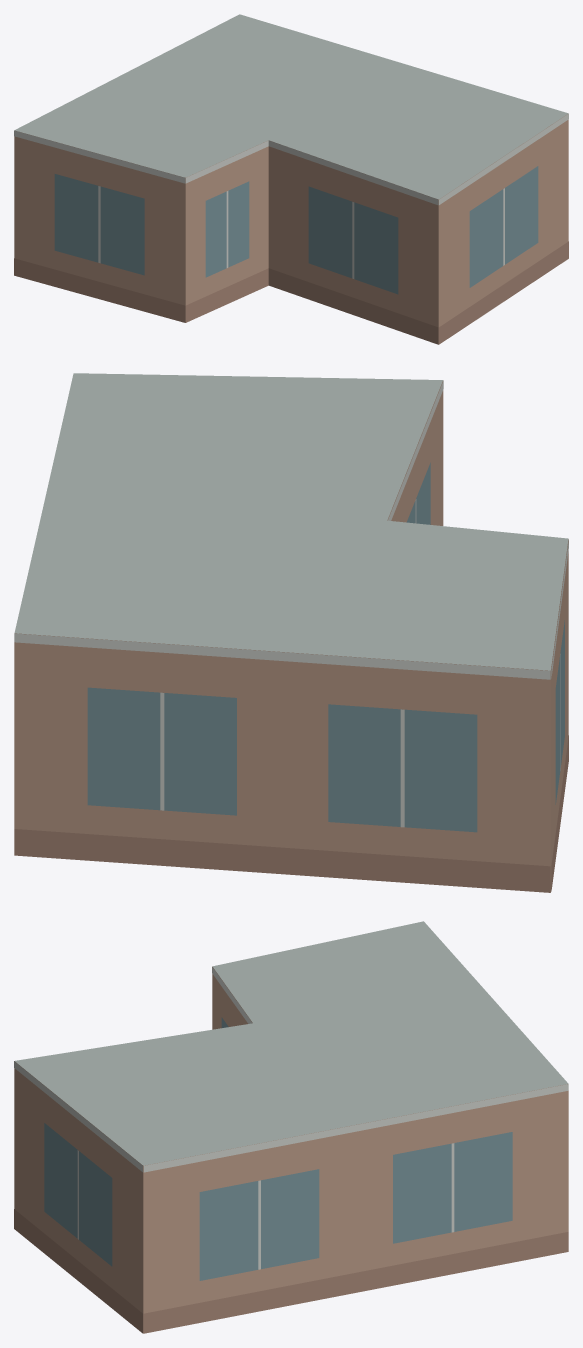
Rendered from survey-upis-32634900.glb.
3 views of the same model, one above another, from view 1: azimuth 30°, elevation 25°; view 2: azimuth 150°, elevation 25°; view 3: azimuth 270°, elevation 25° (orthographic). The views are drawn at different scales.
Visible parts, largest first — view 1: survey-upis-32634900.tmp; view 2: survey-upis-32634900.tmp; view 3: survey-upis-32634900.tmp.
Part boxes in pixels (<box>): survey-upis-32634900.tmp: <box>14,14,568,344</box>; survey-upis-32634900.tmp: <box>14,373,568,892</box>; survey-upis-32634900.tmp: <box>14,921,568,1333</box>.
Bounding box in the file's own units: 9.54 × 3.05 × 9.14.
